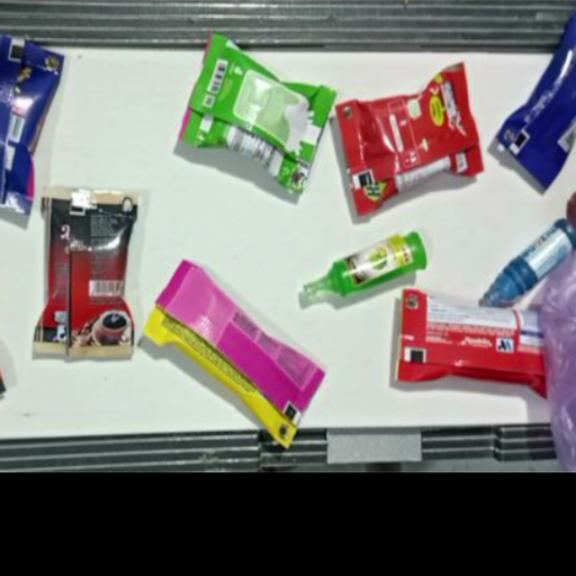Plastik: (143, 260, 325, 449), (178, 34, 336, 194), (336, 62, 482, 216), (32, 186, 138, 356), (394, 288, 550, 400), (496, 6, 576, 189), (0, 34, 64, 215), (480, 218, 576, 307), (303, 230, 427, 296), (542, 256, 575, 470)
